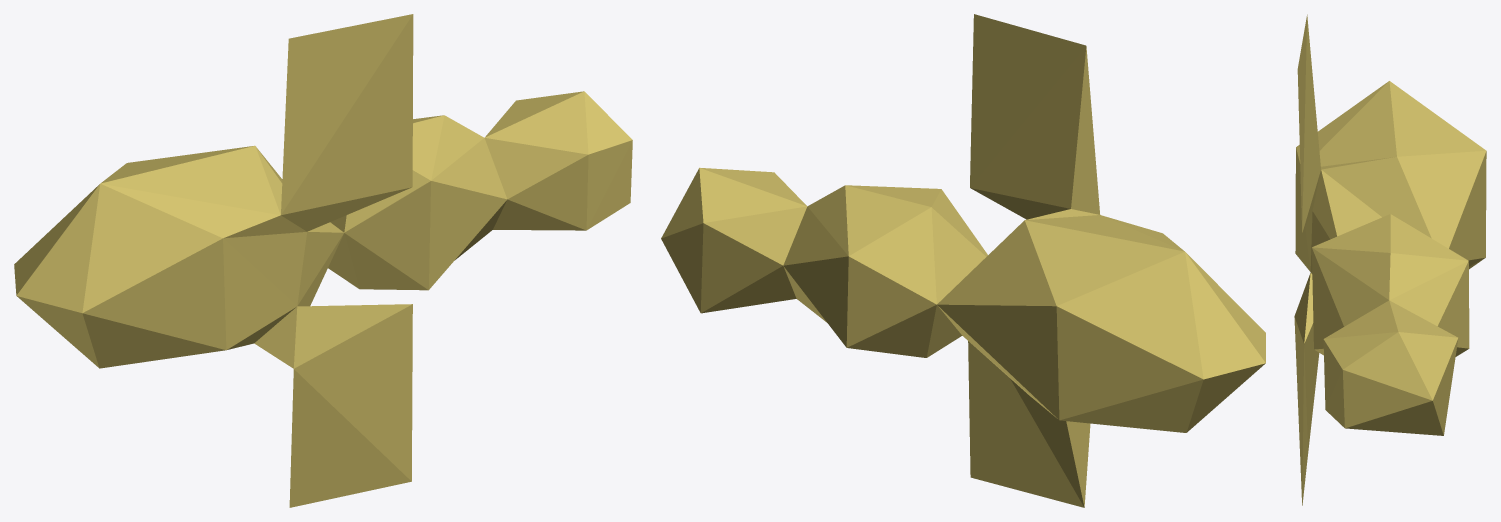
3 views of the same model, side by side, from view 1: azimuth 30°, elevation 25°; view 2: azimuth 150°, elevation 25°; view 3: azimuth 270°, elevation 25° (orthographic). The views are drawn at different scales.
Parts seen in each view (by area): view 1: part0; view 2: part0; view 3: part0.
Boxes of the visible parts, box(x1,y1,x2,y2) form: part0: box(14, 14, 632, 507); part0: box(661, 14, 1265, 507); part0: box(1294, 14, 1486, 505).
Bounding box in the file's own units: 2.53 × 1.92 × 0.7599.
